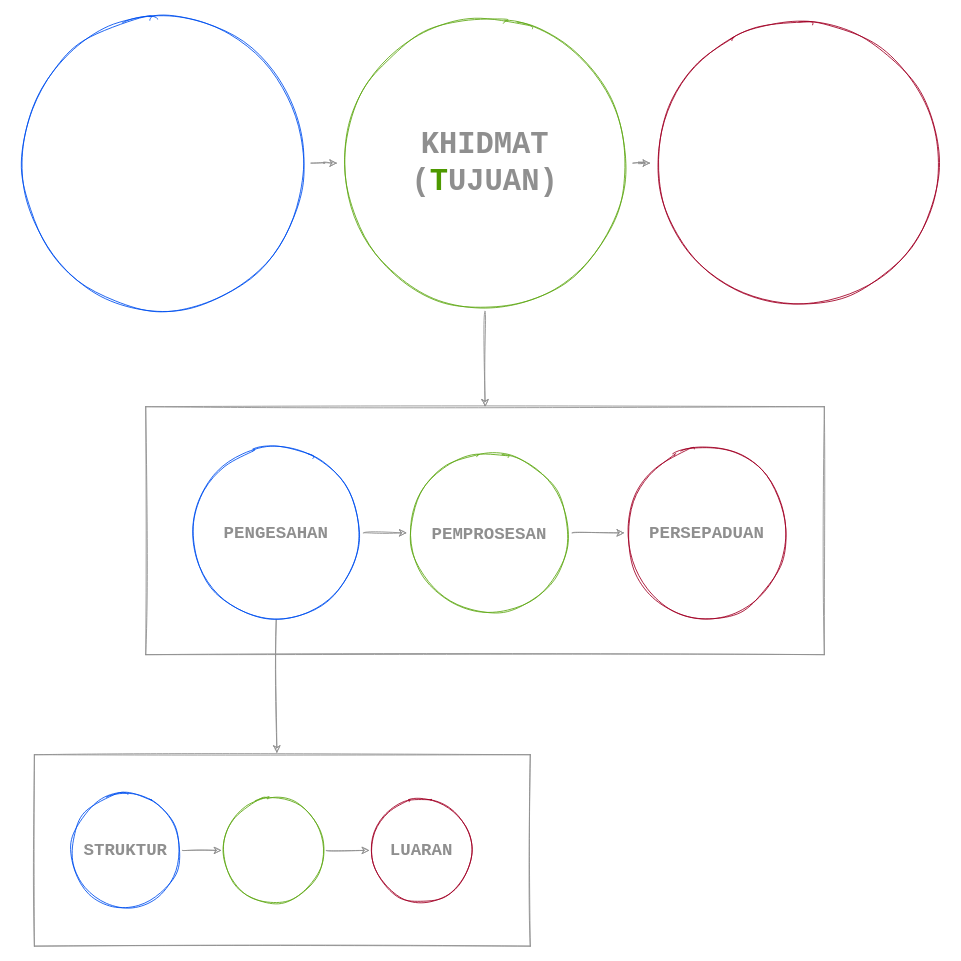
The diagram is 961 pixels wide and 961 high, and some of its shapes have lost their labels. Here are the shapes that lost their labels. From the top down, the centre of each, then its label:
point (162, 162): ALAT KAWALAN (PEN D EDAHAN)
point (797, 162): BROKER (KEBER G ANTUNGAN)
point (273, 850): LOJIK
